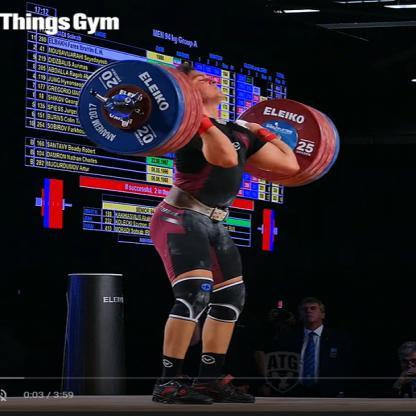Barbell: (93, 92, 153, 130)
